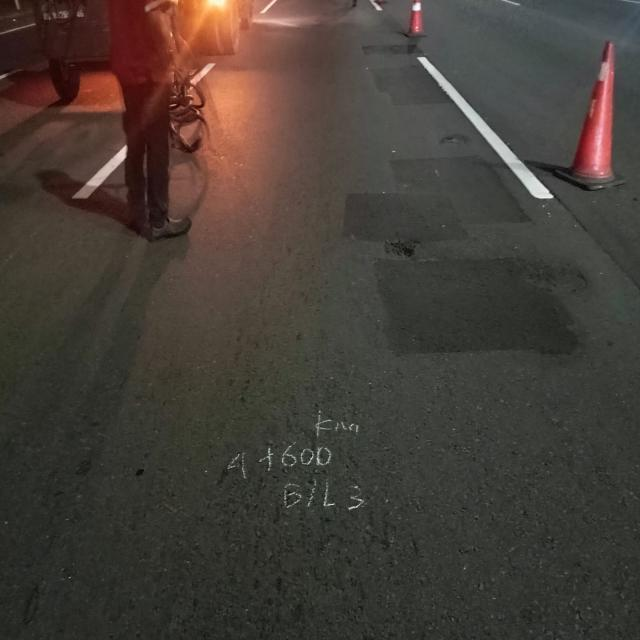Buraco: (516, 258, 593, 298), (380, 236, 424, 260), (437, 132, 472, 146)
